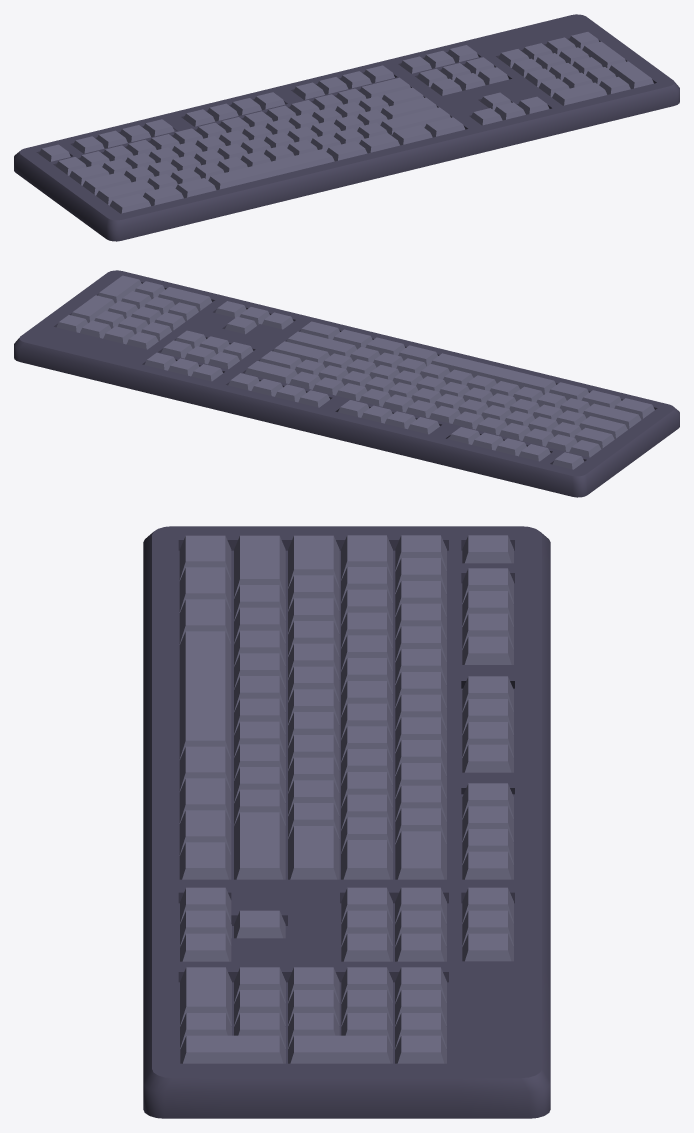
Rendered from keyboard.fbx.
The picture shows the model from 3 angles, top to bottom: view 1: azimuth 30°, elevation 25°; view 2: azimuth 150°, elevation 25°; view 3: azimuth 270°, elevation 25°; orthographic projection. The views are drawn at different scales.
Visible parts, largest first — view 1: key, Cube; view 2: key, Cube; view 3: key, Cube.
Boxes of the visible parts, x1=… form: key: x1=39, y1=32, x2=653, y2=213; Cube: x1=14, y1=14, x2=679, y2=241; key: x1=56, y1=275, x2=654, y2=469; Cube: x1=14, y1=270, x2=679, y2=497; key: x1=179, y1=535, x2=513, y2=1063; Cube: x1=143, y1=526, x2=550, y2=1118.
Size of the model in its own units: 1812 by 68.69 by 559.
